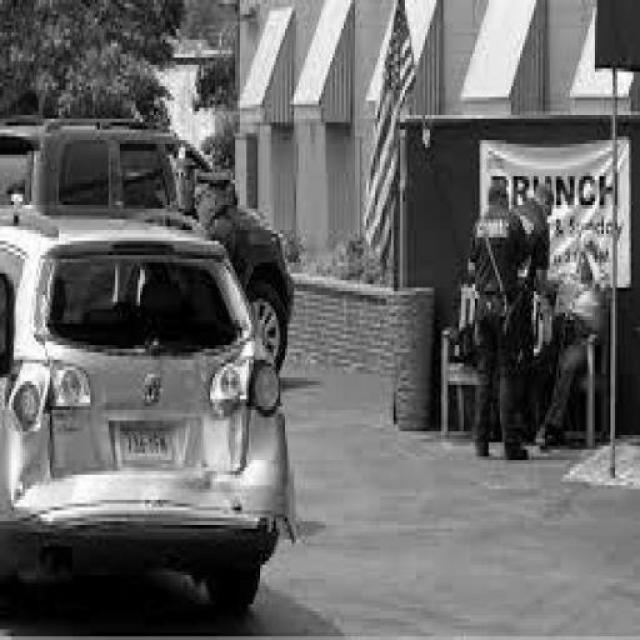crush: (1, 242, 283, 529)
